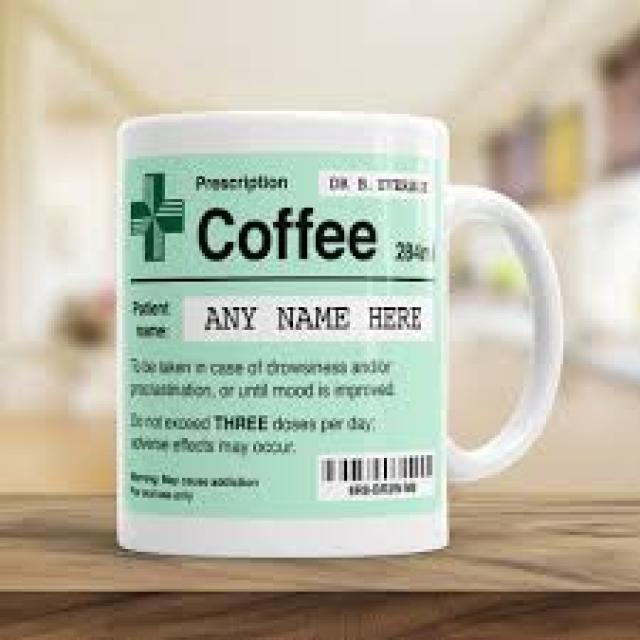taza: (91, 107, 568, 578)
